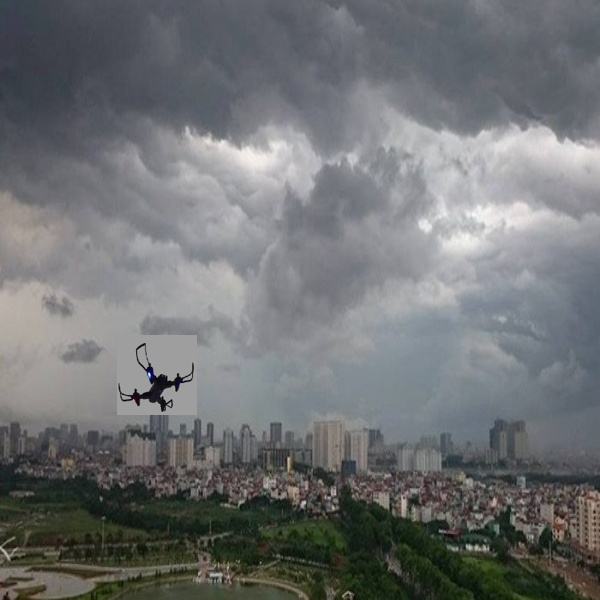drone: (117, 338, 201, 414)
